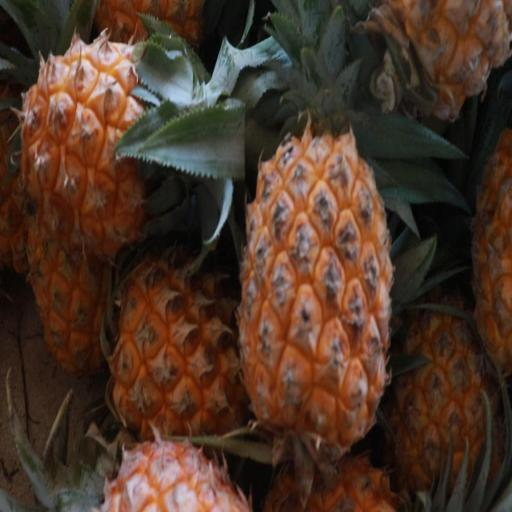Pineapple - v8 v1: (232, 118, 395, 482), (10, 24, 220, 278), (106, 228, 266, 452), (379, 258, 510, 506), (361, 3, 512, 135)
